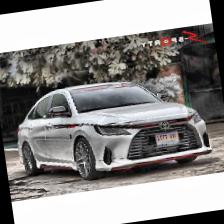NON-EV: (7, 68, 217, 192)
